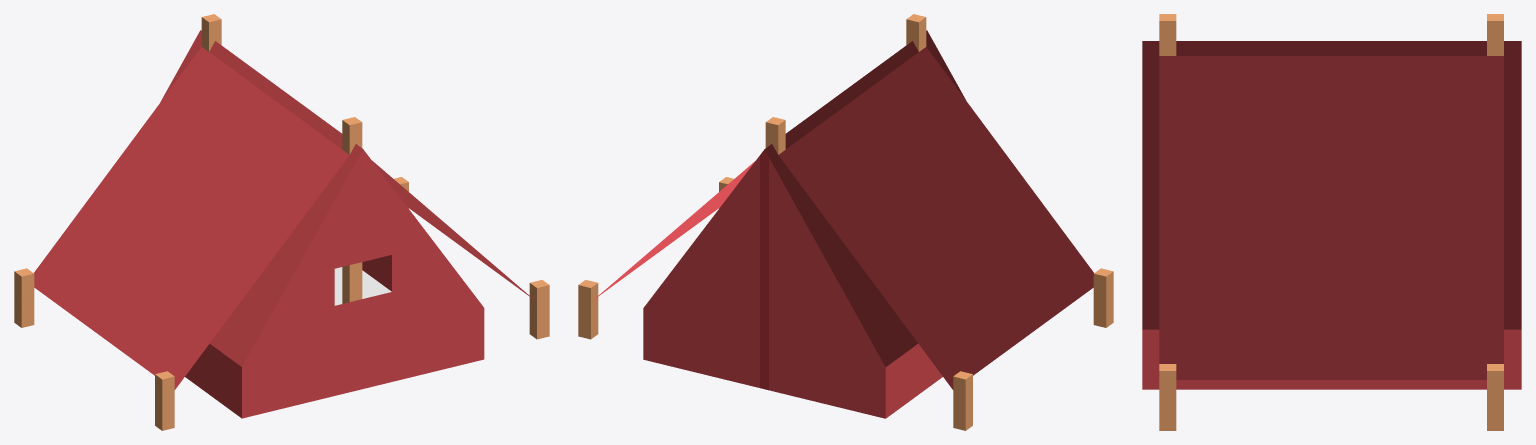
The model's file is tent_detailedClosed.obj.
3 views of the same model, side by side, from view 1: azimuth 30°, elevation 25°; view 2: azimuth 150°, elevation 25°; view 3: azimuth 270°, elevation 25° (orthographic). The views are drawn at different scales.
Visible parts, largest first — view 1: tent_detailedClosed; view 2: tent_detailedClosed; view 3: tent_detailedClosed.
Boxes of the visible parts, box(x1,y1,x2,y2) form: tent_detailedClosed: box(14, 14, 549, 430); tent_detailedClosed: box(578, 14, 1113, 430); tent_detailedClosed: box(1142, 14, 1521, 430).
Size of the model in its own units: 8.75 by 5.61 by 6.36.
